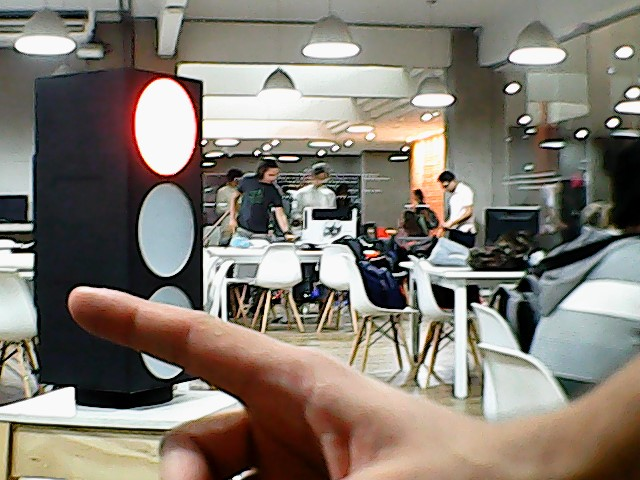vermelho: (29, 70, 211, 392)
